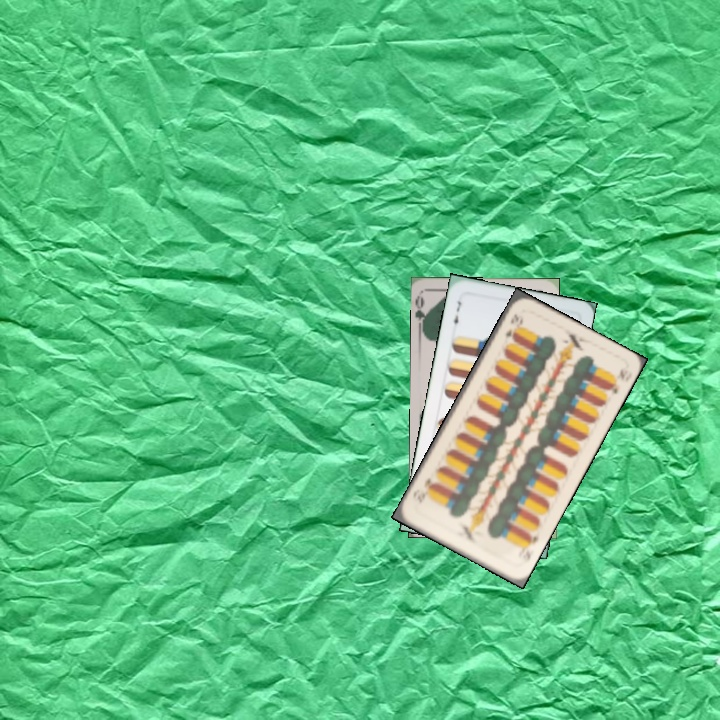E10: (516, 528, 541, 566), (500, 310, 526, 345)
E7: (448, 297, 464, 331)
GO: (414, 292, 433, 332)
